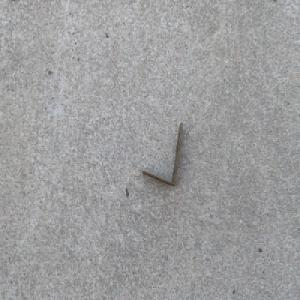MetalPart: (139, 120, 183, 188)
